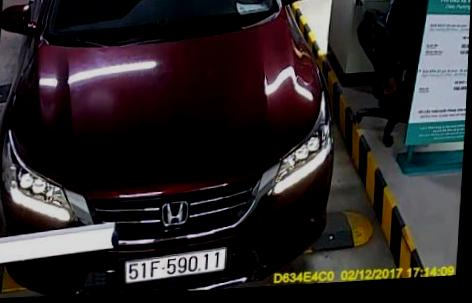License_Plate: (117, 243, 241, 288)
